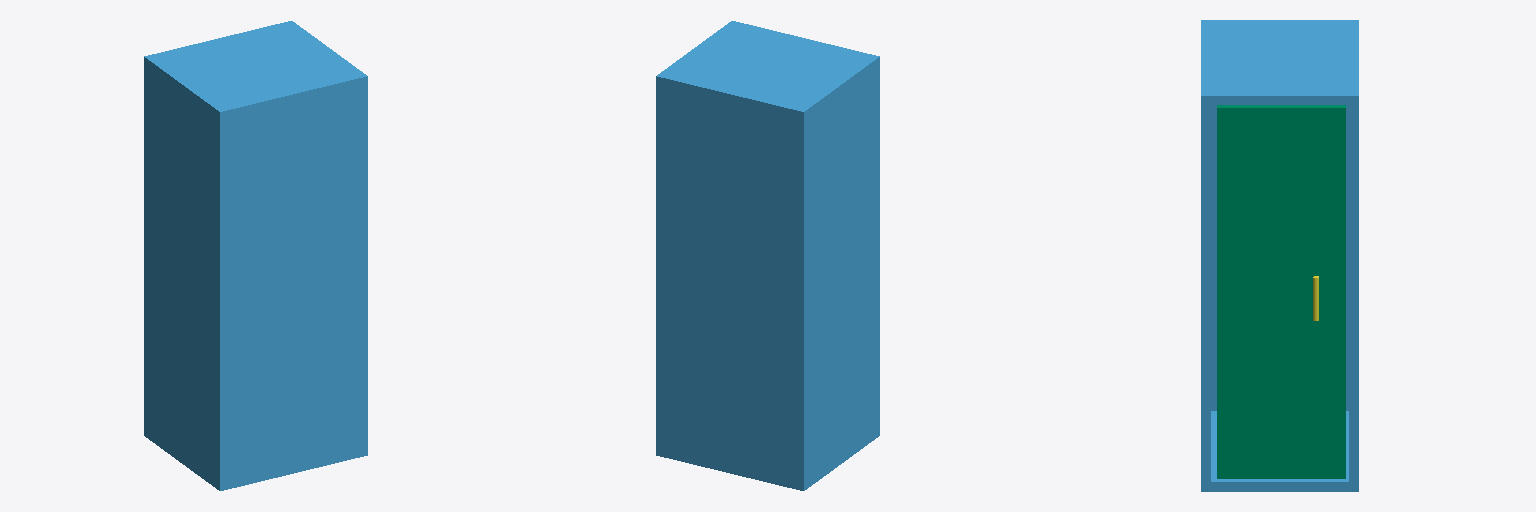
The robot description file, URDF, robot "my_cabinet":
<?xml version="1.0" ?>
<robot name="my_cabinet">
	<link name="world"/>
	<joint name="virtual_joint" type="fixed">
		<parent link="world"/>
		<child link="base_cabinet_link"/>
		<origin xyz="0.0 0.0 0.0" rpy="0.0 0.0 0.0"/>
	</joint>
	<link name="base_cabinet_link">
		<visual>
			<origin xyz="0.0 -0.0025 -0.358647826198956" rpy="0.0 0.0 0.0"/>
			<geometry>
				<box size="0.3 0.26739639930929937 0.018"/>
			</geometry>
		</visual>
		<collision name="base_cabinet_link_collision_0">
			<origin xyz="0.0 -0.0025 -0.358647826198956" rpy="0.0 0.0 0.0"/>
			<geometry>
				<box size="0.3 0.26739639930929937 0.018"/>
			</geometry>
		</collision>
		<visual>
			<origin xyz="0.0 0.1221981996546497 0.0" rpy="0.0 0.0 0.0"/>
			<geometry>
				<box size="0.3 0.018 0.7352956523979121"/>
			</geometry>
		</visual>
		<collision name="base_cabinet_link_collision_1">
			<origin xyz="0.0 0.1221981996546497 0.0" rpy="0.0 0.0 0.0"/>
			<geometry>
				<box size="0.3 0.018 0.7352956523979121"/>
			</geometry>
		</collision>
		<visual>
			<origin xyz="0.0 -0.1271981996546497 0.0" rpy="0.0 0.0 0.0"/>
			<geometry>
				<box size="0.3 0.018 0.7352956523979121"/>
			</geometry>
		</visual>
		<collision name="base_cabinet_link_collision_2">
			<origin xyz="0.0 -0.1271981996546497 0.0" rpy="0.0 0.0 0.0"/>
			<geometry>
				<box size="0.3 0.018 0.7352956523979121"/>
			</geometry>
		</collision>
		<visual>
			<origin xyz="0.0 -0.0025 0.358647826198956" rpy="0.0 0.0 0.0"/>
			<geometry>
				<box size="0.3 0.2673963993092994 0.018"/>
			</geometry>
		</visual>
		<collision name="base_cabinet_link_collision_3">
			<origin xyz="0.0 -0.0025 0.358647826198956" rpy="0.0 0.0 0.0"/>
			<geometry>
				<box size="0.3 0.2673963993092994 0.018"/>
			</geometry>
		</collision>
		<visual>
			<origin xyz="-0.141 -0.0025 0.0" rpy="0.0 0.0 0.0"/>
			<geometry>
				<box size="0.018 0.2673963993092994 0.7352956523979121"/>
			</geometry>
		</visual>
		<collision name="base_cabinet_link_collision_4">
			<origin xyz="-0.141 -0.0025 0.0" rpy="0.0 0.0 0.0"/>
			<geometry>
				<box size="0.018 0.2673963993092994 0.7352956523979121"/>
			</geometry>
		</collision>
		<inertial>
			<mass value="0.200000"/>
			<inertia ixx="0.010203" ixy="0.0" ixz="0.0" iyy="0.010511" iyz="0.0" izz="0.002692"/>
		</inertial>
	</link>
	<link name="door_link">
		<visual>
			<origin xyz="0.0 -0.1081981996546497 0.0"/>
			<geometry>
				<box size="0.018 0.2163963993092994 0.689295652397912"/>
			</geometry>
		</visual>
		<collision name="door_link_collision">
			<origin xyz="0.0 -0.1081981996546497 0.0"/>
			<geometry>
				<box size="0.018 0.2163963993092994 0.689295652397912"/>
			</geometry>
		</collision>
		<inertial>
			<mass value="0.200000"/>
			<inertia ixx="0.008699" ixy="0.0" ixz="0.0" iyy="0.007924" iyz="0.0" izz="0.000786"/>
		</inertial>
	</link>
	<joint name="door_joint" type="revolute">
		<origin xyz="0.141 -0.1081981996546497 0.0" rpy="0.000000 -0.000000 3.141593"/>
		<axis xyz="0 0 1"/>
		<parent link="base_cabinet_link"/>
		<child link="door_link"/>
		<limit effort="50" lower="-1.658062789394613" upper="0" velocity="10"/>
		<dynamics friction="3.5" damping="3.5"/>
	</joint>
	<link name="handle_link">
		<visual>
			<origin xyz="0.0 0.0 0.0" rpy="0.0 0.0 0.0"/>
			<geometry>
				<cylinder length="0.08" radius="0.005"/>
			</geometry>
		</visual>
		<collision name="handle_link_collision_0">
			<origin xyz="0.0 0.0 0.0" rpy="0.0 0.0 0.0"/>
			<geometry>
				<cylinder length="0.08" radius="0.005"/>
			</geometry>
		</collision>
		<visual>
			<origin xyz="-0.01 0.0 0.02" rpy="0.0 1.5707963267948966 0.0"/>
			<geometry>
				<cylinder length="0.02" radius="0.003"/>
			</geometry>
		</visual>
		<collision name="handle_link_collision_1">
			<origin xyz="-0.01 0.0 0.02" rpy="0.0 1.5707963267948966 0.0"/>
			<geometry>
				<cylinder length="0.01" radius="0.003"/>
			</geometry>
		</collision>
		<visual>
			<origin xyz="-0.01 0.0 -0.02" rpy="0.0 1.5707963267948966 0.0"/>
			<geometry>
				<cylinder length="0.02" radius="0.003"/>
			</geometry>
		</visual>
		<collision name="handle_link_collision_2">
			<origin xyz="-0.01 0.0 -0.02" rpy="0.0 1.5707963267948966 0.0"/>
			<geometry>
				<cylinder length="0.02" radius="0.003"/>
			</geometry>
		</collision>
		<inertial>
			<mass value="0.050000"/>
			<inertia ixx="0.000027" ixy="0.0" ixz="0.0" iyy="0.000029" iyz="0.0" izz="0.000003"/>
		</inertial>
	</link>
	<joint name="handle_joint" type="fixed">
		<origin xyz="-0.028999999999999998 -0.1663963993092994 0.0" rpy="0.000000 -0.000000 3.141593"/>
		<parent link="door_link"/>
		<child link="handle_link"/>
	</joint>
	<gazebo reference="base_cabinet_link">
		<sensor name="main_sensor" type="contact">
			<selfCollide>true</selfCollide>
			<alwaysOn>true</alwaysOn>
			<updateRate>5.0</updateRate>
			<material>Gazebo/Red</material>
			<contact>
				<collision>base_cabinet_link_collision_0_collision</collision>
				<collision>base_cabinet_link_collision_1_collision</collision>
				<collision>base_cabinet_link_collision_2_collision</collision>
				<collision>base_cabinet_link_collision_3_collision</collision>
				<collision>base_cabinet_link_collision_4_collision</collision>
			</contact>
			<plugin name="gazebo_ros_bumper_controller" filename="libgazebo_ros_bumper.so">
				<bumperTopicName>/contact</bumperTopicName>
				<frameName>world</frameName>
			</plugin>
		</sensor>
	</gazebo>
	<gazebo reference="door_link">
		<sensor name="main_sensor" type="contact">
			<selfCollide>true</selfCollide>
			<alwaysOn>true</alwaysOn>
			<updateRate>5.0</updateRate>
			<material>Gazebo/Red</material>
			<contact>
				<collision>door_link_collision_collision</collision>
			</contact>
			<plugin name="gazebo_ros_bumper_controller" filename="libgazebo_ros_bumper.so">
				<bumperTopicName>/contact_door</bumperTopicName>
				<frameName>contact_door</frameName>
			</plugin>
		</sensor>
	</gazebo>
	<gazebo reference="door_link">
		<mu>3.0</mu>
		<mu2>3.0</mu2>
		<kp>10000000</kp>
		<kd>100</kd>
	</gazebo>
</robot>

--- Render facts (derived) ---
3 views of the same robot in one strip: view 1: azimuth 30°, elevation 25°; view 2: azimuth 150°, elevation 25°; view 3: azimuth 270°, elevation 25° (orthographic).
Model my_cabinet with 4 links and 3 joints (1 revolute, 2 fixed), rooted at world, posed every joint at zero.
Links seen in each view (by area): view 1: base_cabinet_link; view 2: base_cabinet_link; view 3: door_link, base_cabinet_link.
Link boxes in pixels (left/top/right/bottom): base_cabinet_link: left=144, top=21, right=367, bottom=490; base_cabinet_link: left=656, top=21, right=879, bottom=490; door_link: left=1217, top=105, right=1345, bottom=478; base_cabinet_link: left=1201, top=20, right=1358, bottom=491.
Size in the robot's own frame: 0.325 by 0.2674 by 0.7353 metres.
Geometry: primitives only (box / cylinder / sphere), no mesh files.
